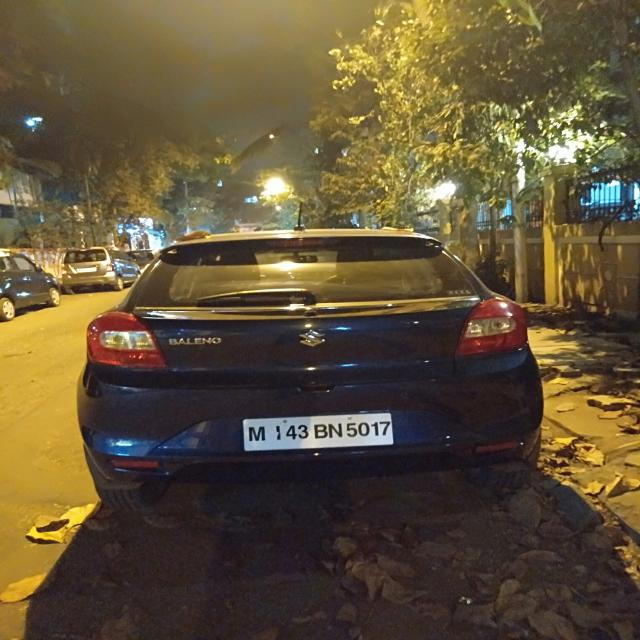Number-Plate: (248, 416, 390, 448)
